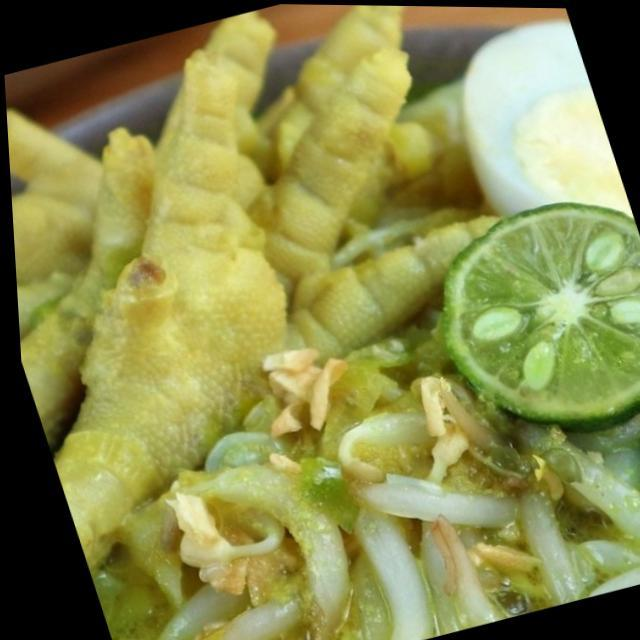Soto: (7, 5, 639, 639)
